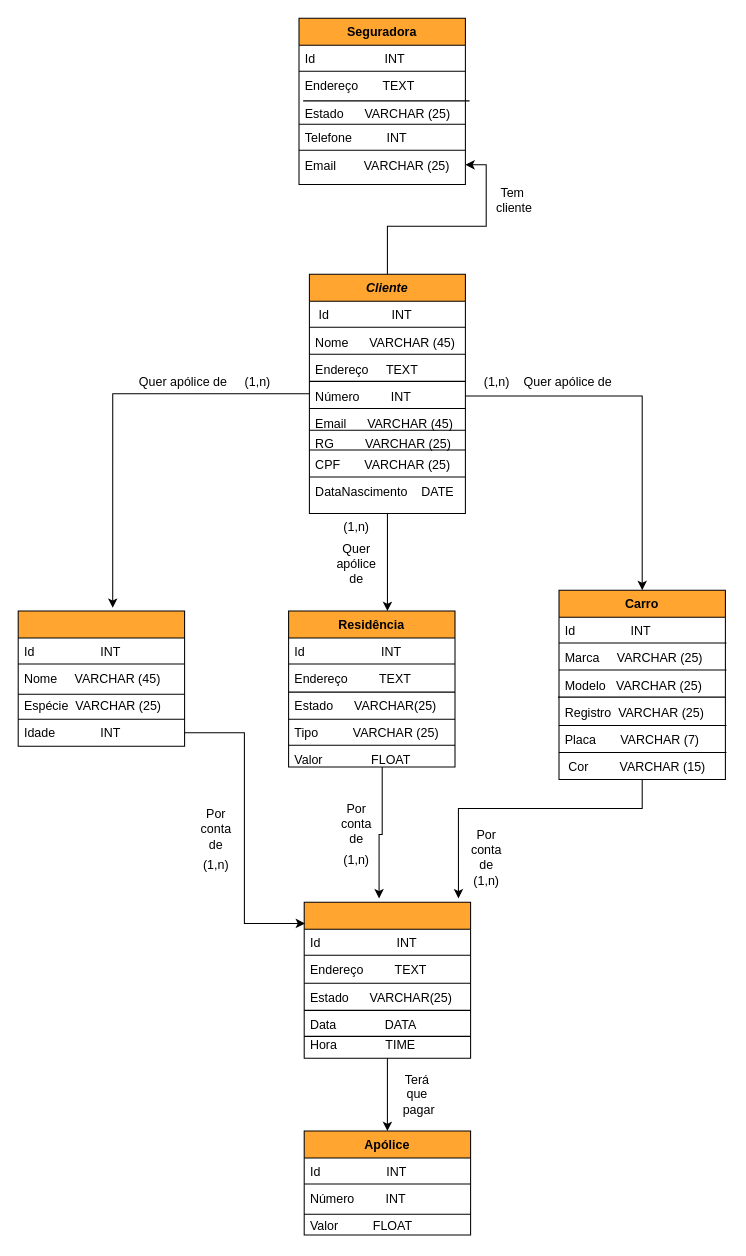
Some shapes in this 746 by 1256 pixel diagram are drawn without their labels. Here are the shapes that lost their labels. From the top down, the box of each, then its label:
(17, 610, 185, 746): Tartaruga
(303, 901, 471, 1058): Incidente
